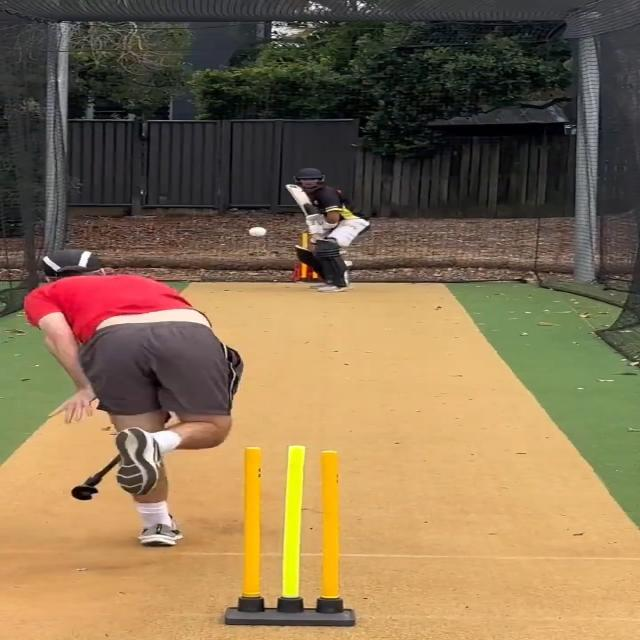ball: (246, 226, 269, 238)
stump: (226, 444, 357, 628)
